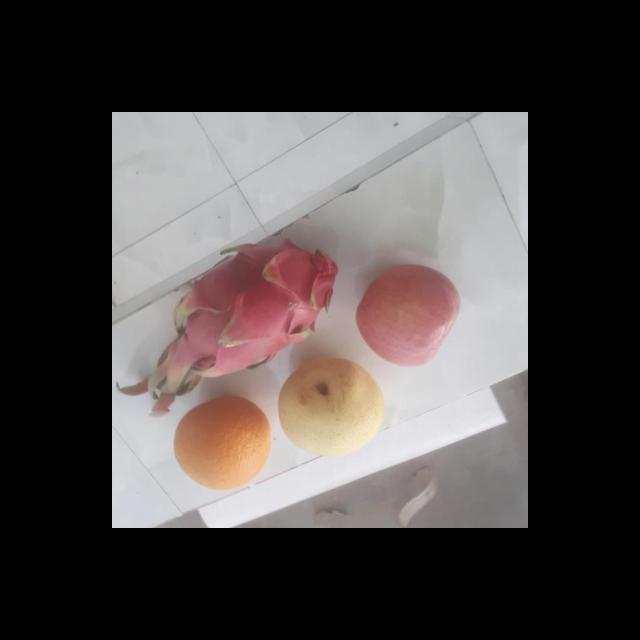apple: (356, 268, 464, 366)
orange: (171, 396, 276, 488)
pear: (278, 356, 392, 456)
pitaya: (175, 240, 344, 382)
